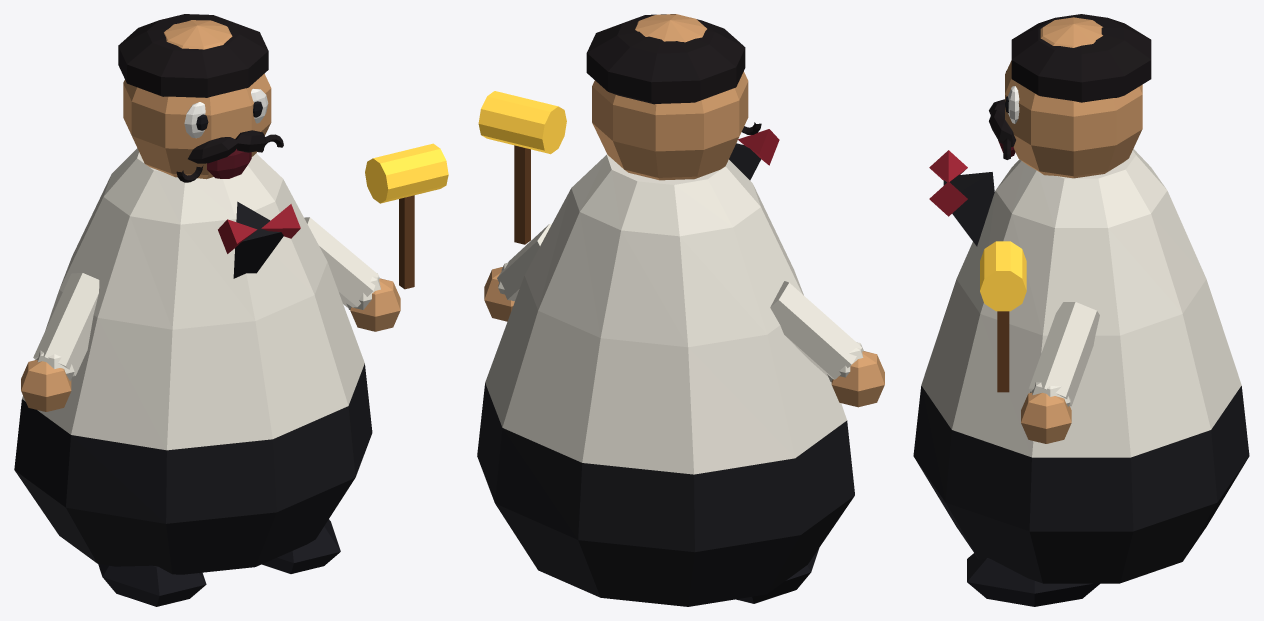
File: npc_martillo.glb
3 renders of one model, left to right at view 1: azimuth 30°, elevation 25°; view 2: azimuth 150°, elevation 25°; view 3: azimuth 270°, elevation 25°, orthographic. The views are drawn at different scales.
Parts seen in each view (by area): view 1: body_tux_white, body_pants_black, head_skin_arena, head_hair_black, arms_tux_white, legs_black, arms_skin_arena, props_gold, body_lapel_black, face_hair_black, props_gavel_wood, body_bow_red (×2) (+2 smaller); view 2: body_tux_white, body_pants_black, head_skin_arena, head_hair_black, arms_tux_white, props_gold, arms_skin_arena, props_gavel_wood, legs_black, body_bow_red, body_lapel_black; view 3: body_tux_white, body_pants_black, head_skin_arena, head_hair_black, arms_tux_white, legs_black, props_gold, arms_skin_arena, body_lapel_black, body_bow_red (×2), props_gavel_wood, face_hair_black.
Part boxes in pixels (bbox=[...]): body_tux_white: bbox=[22, 148, 364, 450]; body_pants_black: bbox=[14, 363, 372, 574]; head_skin_arena: bbox=[123, 20, 271, 179]; head_hair_black: bbox=[118, 14, 268, 97]; arms_tux_white: bbox=[33, 217, 380, 381]; legs_black: bbox=[98, 519, 340, 606]; arms_skin_arena: bbox=[21, 278, 400, 411]; props_gold: bbox=[365, 143, 448, 203]; body_lapel_black: bbox=[233, 201, 283, 278]; face_hair_black: bbox=[176, 130, 283, 182]; props_gavel_wood: bbox=[399, 195, 414, 289]; body_bow_red (×2): bbox=[218, 204, 300, 253]; body_tux_white: bbox=[485, 154, 846, 474]; body_pants_black: bbox=[477, 383, 854, 606]; head_skin_arena: bbox=[592, 14, 748, 180]; head_hair_black: bbox=[586, 14, 745, 104]; arms_tux_white: bbox=[497, 224, 863, 381]; props_gold: bbox=[478, 91, 566, 154]; arms_skin_arena: bbox=[484, 267, 884, 407]; props_gavel_wood: bbox=[514, 145, 530, 244]; legs_black: bbox=[736, 548, 819, 603]; body_bow_red: bbox=[738, 129, 779, 165]; body_lapel_black: bbox=[729, 143, 761, 180]; body_tux_white: bbox=[921, 149, 1241, 457]; body_pants_black: bbox=[913, 386, 1249, 583]; head_skin_arena: bbox=[1005, 17, 1142, 178]; head_hair_black: bbox=[1011, 14, 1151, 102]; arms_tux_white: bbox=[1029, 302, 1099, 406]; legs_black: bbox=[967, 553, 1099, 606]; props_gold: bbox=[980, 241, 1026, 311]; arms_skin_arena: bbox=[1021, 392, 1071, 443]; body_lapel_black: bbox=[943, 172, 994, 246]; body_bow_red (×2): bbox=[929, 150, 967, 216]; props_gavel_wood: bbox=[997, 311, 1009, 392]; face_hair_black: bbox=[989, 99, 1015, 159].
Size of the model in its own units: 1.18 by 1.53 by 0.86.
